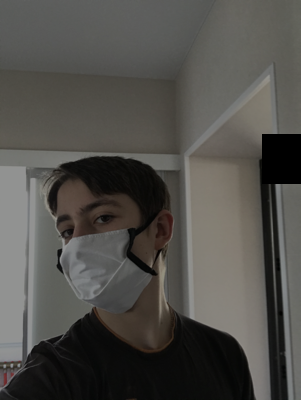with_mask: (56, 196, 156, 314)
